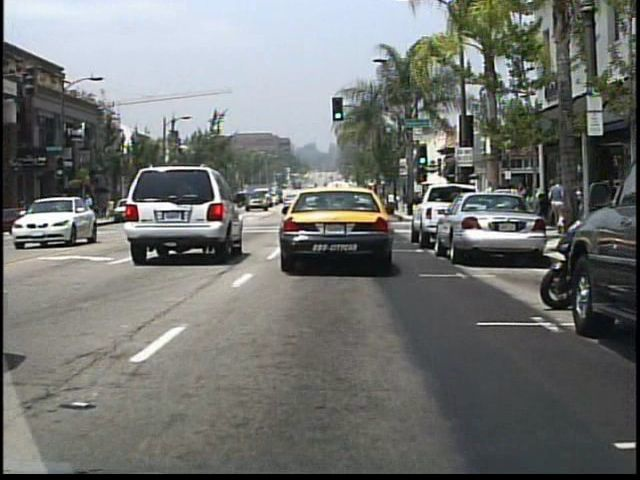person: (547, 178, 566, 232), (513, 179, 532, 233)
